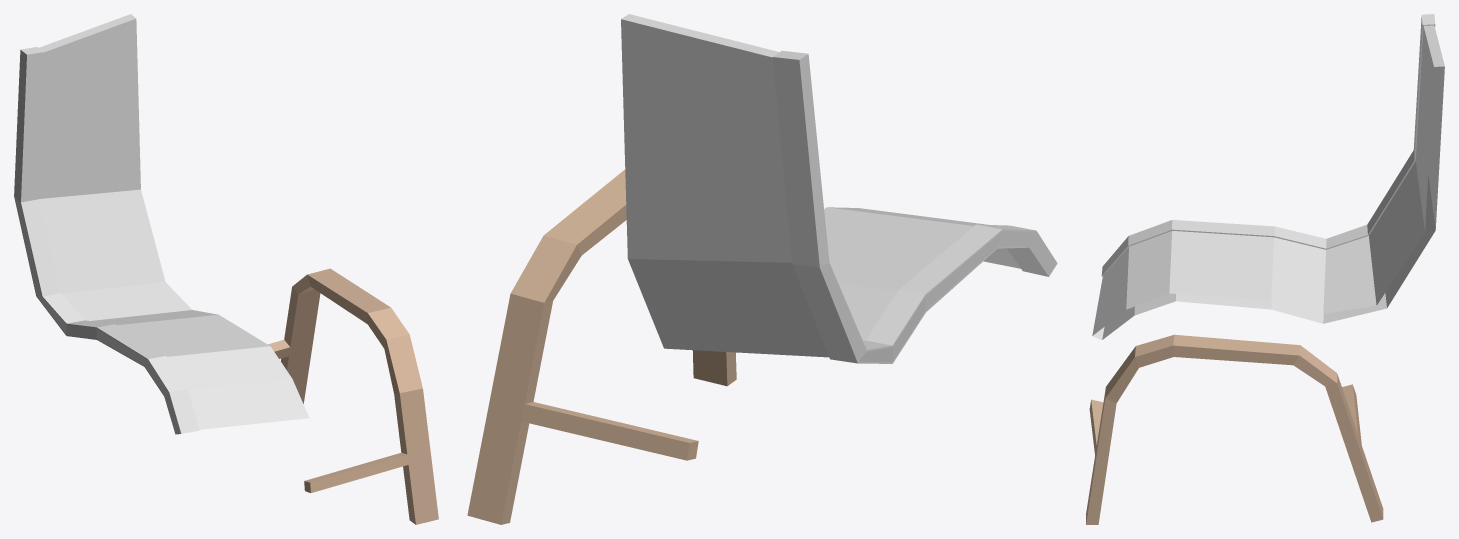
The model's file is chair3.gltf.
3 renders of one model, left to right at view 1: azimuth 30°, elevation 25°; view 2: azimuth 150°, elevation 25°; view 3: azimuth 270°, elevation 25°, orthographic. The views are drawn at different scales.
Visible parts, largest first — view 1: Cube; view 2: Cube; view 3: Cube.
Boxes of the visible parts, x1,y1,x2,y2 form: Cube: [14, 14, 438, 524]; Cube: [467, 14, 1057, 524]; Cube: [1086, 14, 1444, 524].
Bounding box in the file's own units: 1.02 × 1.5 × 1.23.
Materials: 1 (1 with a texture image).
